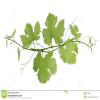grape leaf: (30, 50, 58, 86), (42, 12, 66, 48), (20, 21, 41, 51), (58, 39, 79, 68), (67, 23, 82, 42)
